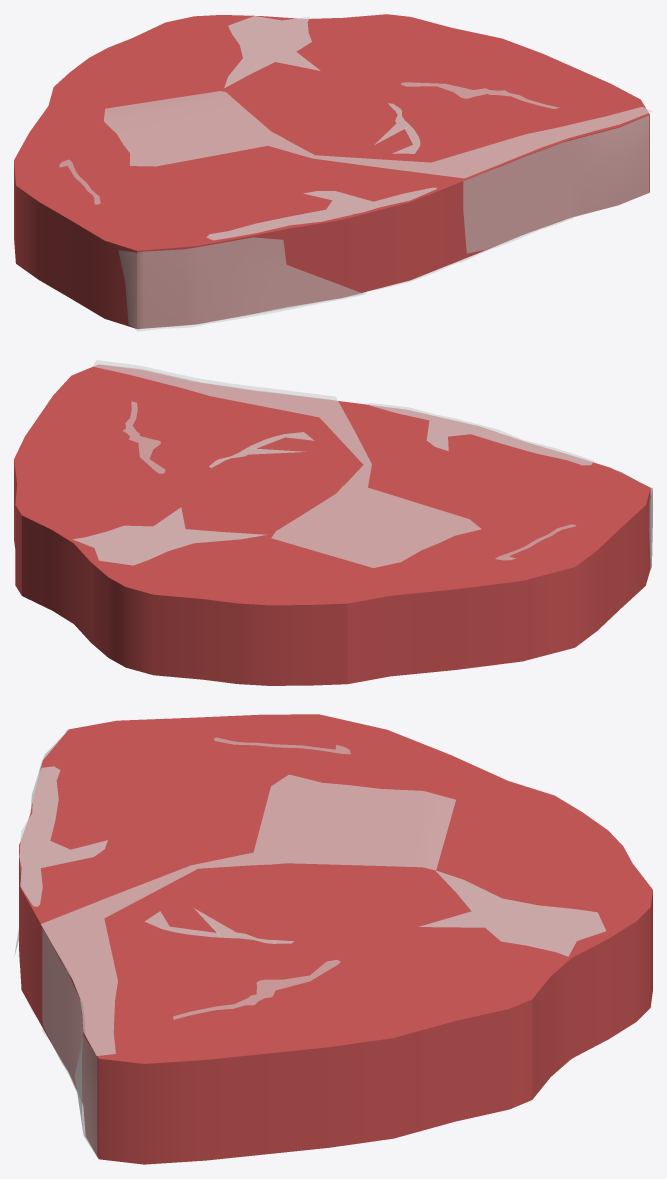
File: niku.fbx
3 renders of one model, top to bottom at view 1: azimuth 30°, elevation 25°; view 2: azimuth 150°, elevation 25°; view 3: azimuth 270°, elevation 25°, orthographic. The views are drawn at different scales.
Visible parts, largest first — view 1: pCube2, pPlane5, pPlane6, pCube3, pCube4, pCube5, pPlane1, pCube6, pasted__pasted__pCube3; view 2: pCube2, pCube3, pCube4, pCube5, pPlane1, pCube6; view 3: pCube2, pCube3, pCube4, pPlane5, pCube5, pPlane1, pCube6.
Part boxes in pixels (x1,y1,x2,y2): pCube2: (14,14,649,328); pPlane5: (463,115,649,253); pPlane6: (118,237,363,329); pCube3: (104,91,652,178); pCube4: (224,16,320,87); pCube5: (206,187,436,240); pPlane1: (401,82,558,108); pCube6: (374,103,420,153); pasted__pasted__pCube3: (135,292,366,331); pCube2: (14,365,650,685); pCube3: (93,360,480,567); pCube4: (73,507,267,565); pCube5: (368,403,593,465); pPlane1: (123,401,165,473); pCube6: (209,432,313,467); pCube2: (19,714,652,1164); pCube3: (41,774,455,1055); pCube4: (419,870,605,956); pPlane5: (42,928,97,1156); pCube5: (19,766,107,906); pPlane1: (173,960,340,1019); pCube6: (145,908,293,943).
Size of the model in its own units: 1.73 by 0.2517 by 1.33.
